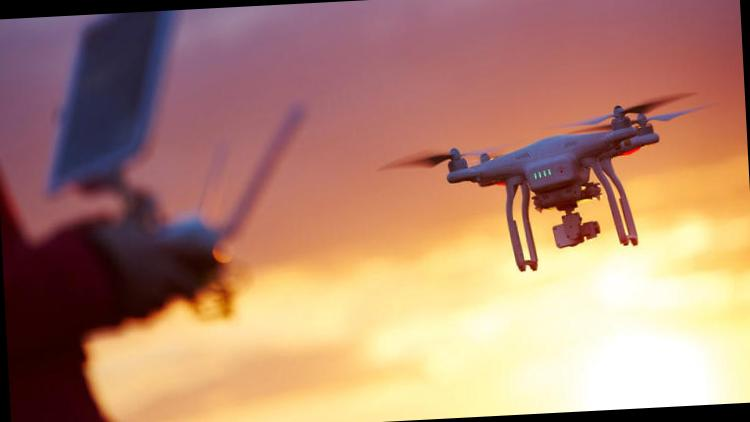drone: (381, 87, 708, 264)
